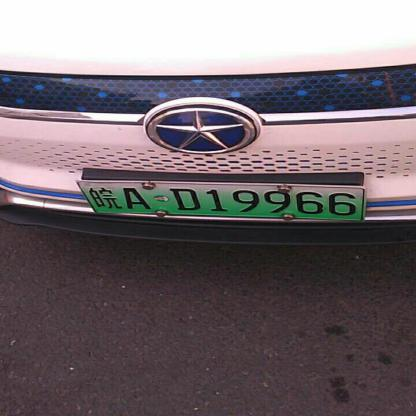lp: (77, 181, 366, 221)
